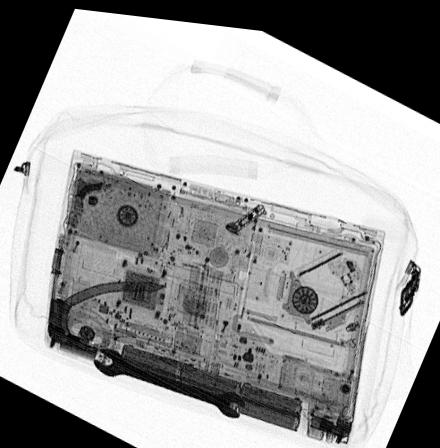Wrench: (91, 346, 246, 412)
